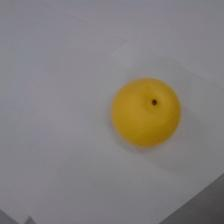yellow: (111, 77, 181, 147)
